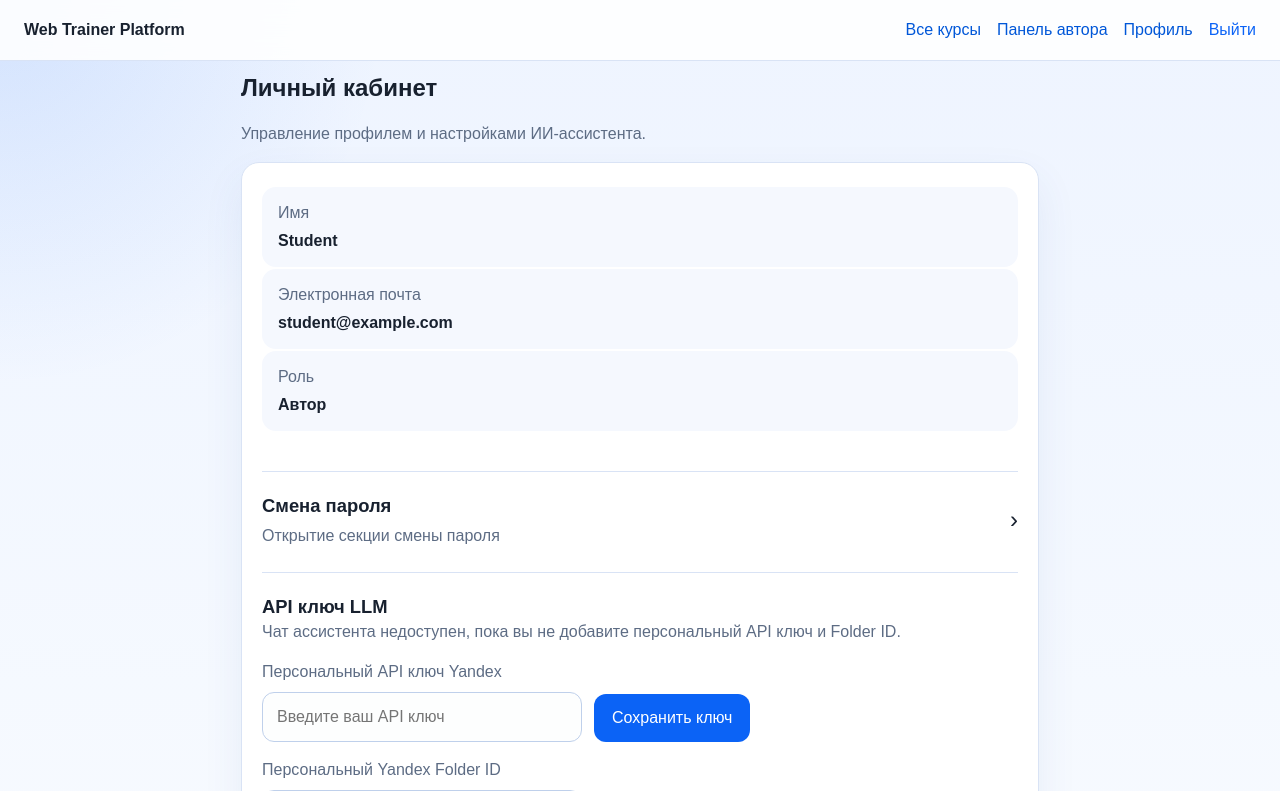
it: DashboardPage API key settings › rejects invalid API key input before sending a request
Type "too short" into the password field labelled "Персональный API ключ Yandex". click: (422, 717)
box: [262,692,582,742]
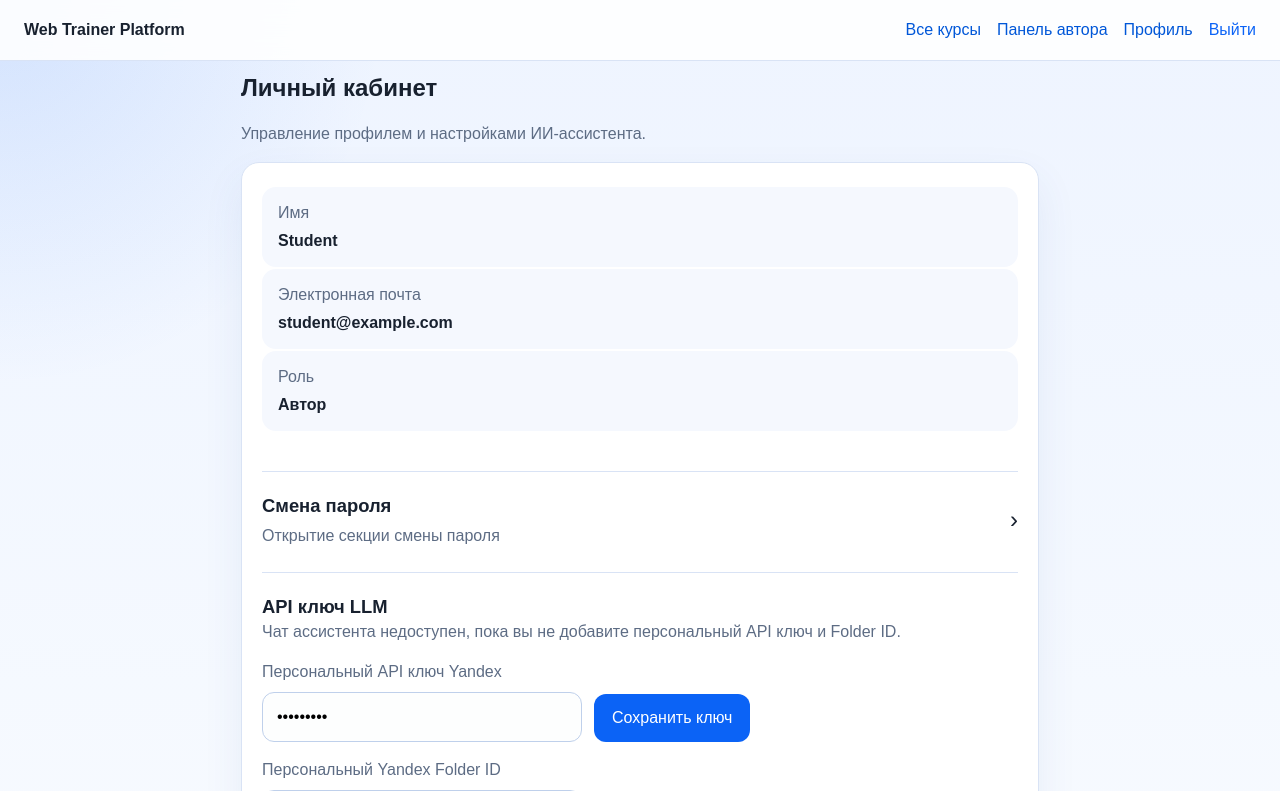
Click the button "Сохранить ключ". click: (672, 718)
box: [594,694,750,742]
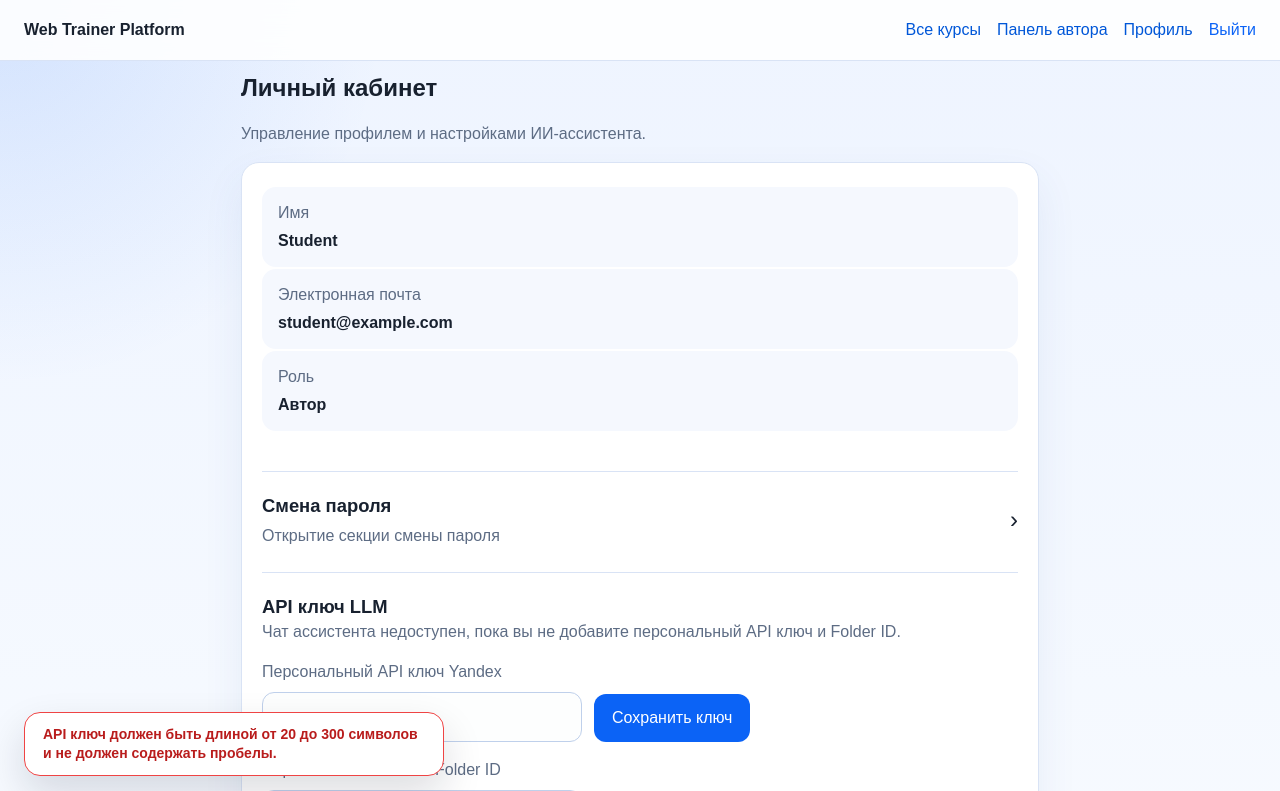
Now the text "API ключ должен быть длиной от 20 до 300 символов и не должен содержать пробелы." is shown, box [43,725,425,763]
